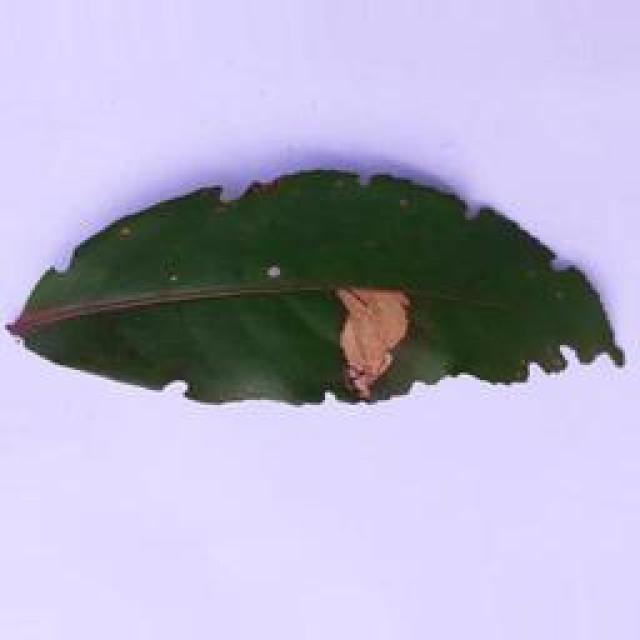Gray Blight: (11, 164, 616, 409)
